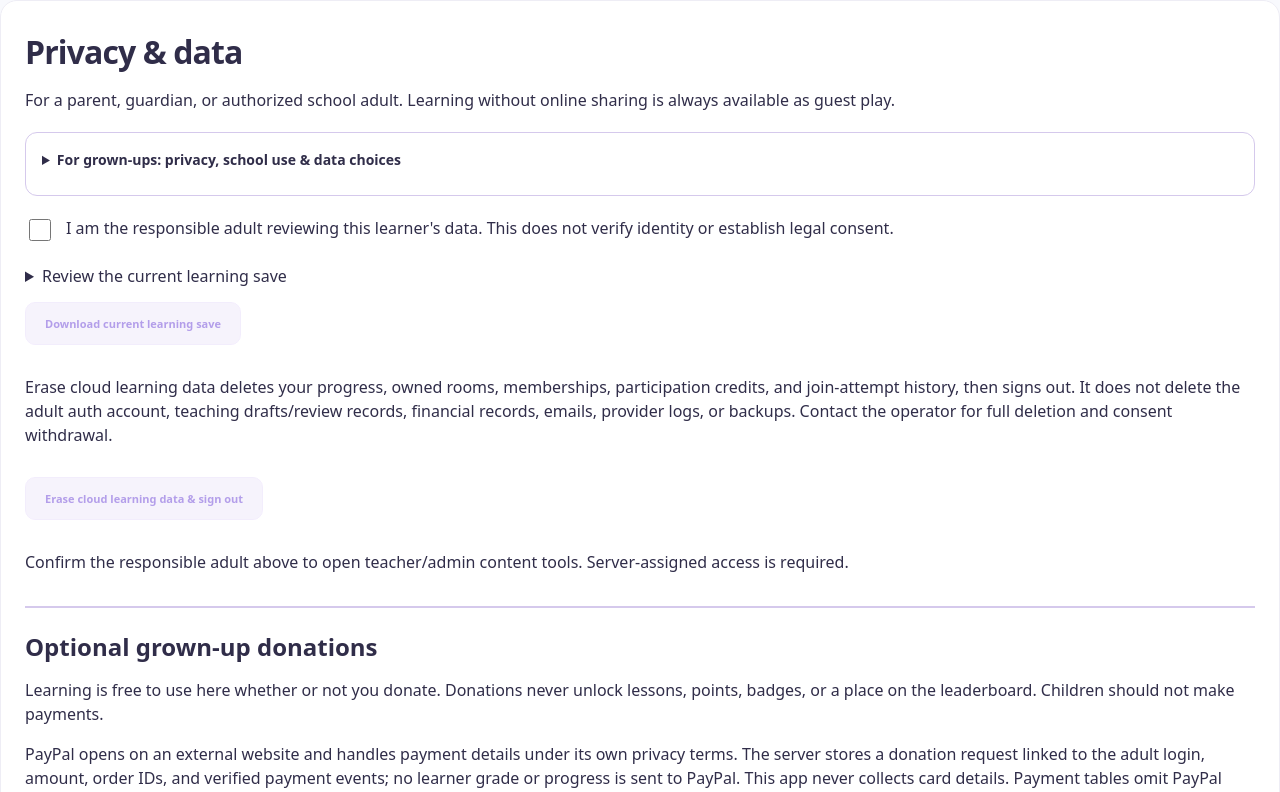
Test: adult privacy choices › surfaces erasure failures and explains cloud identity/backups are separate
Click the checkbox at (40, 230), box left=29, top=219, right=51, bottom=241
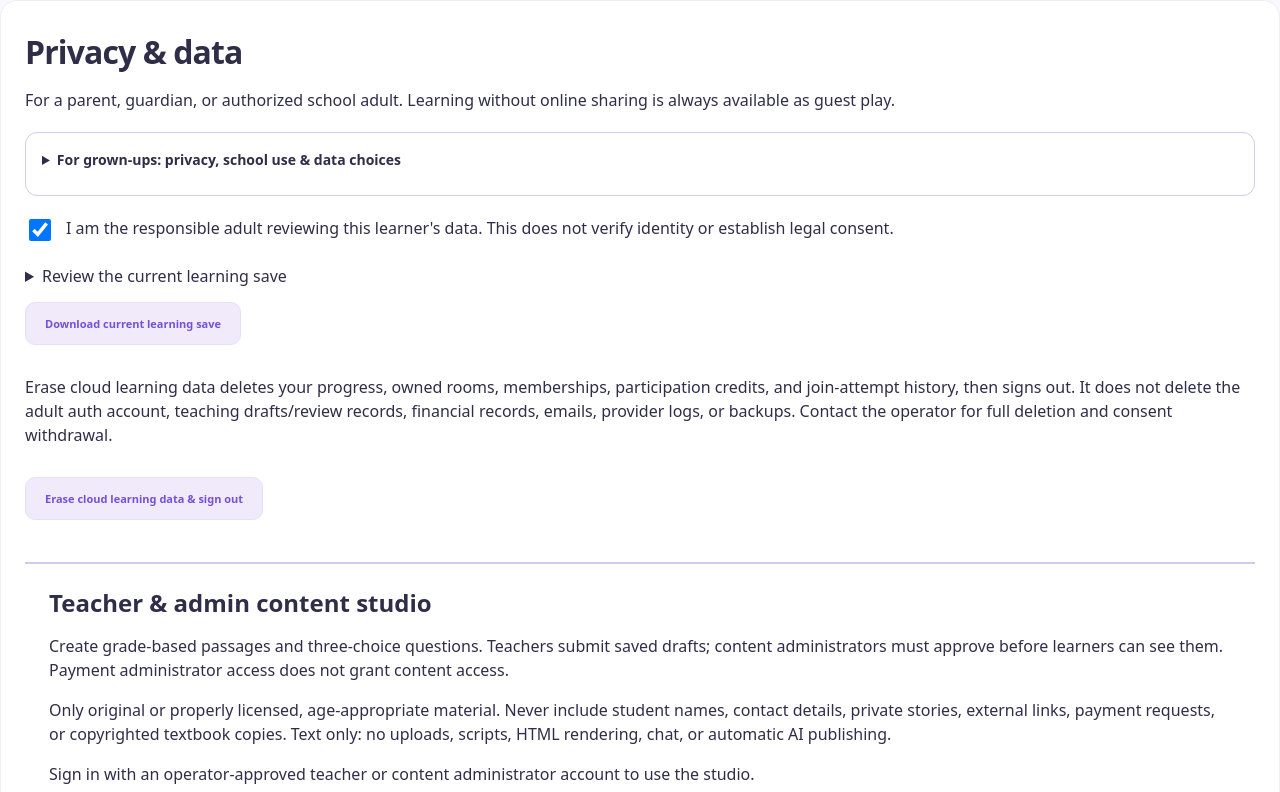
Click the button "Erase cloud learning data & sign out" at (144, 498), box left=25, top=477, right=263, bottom=520
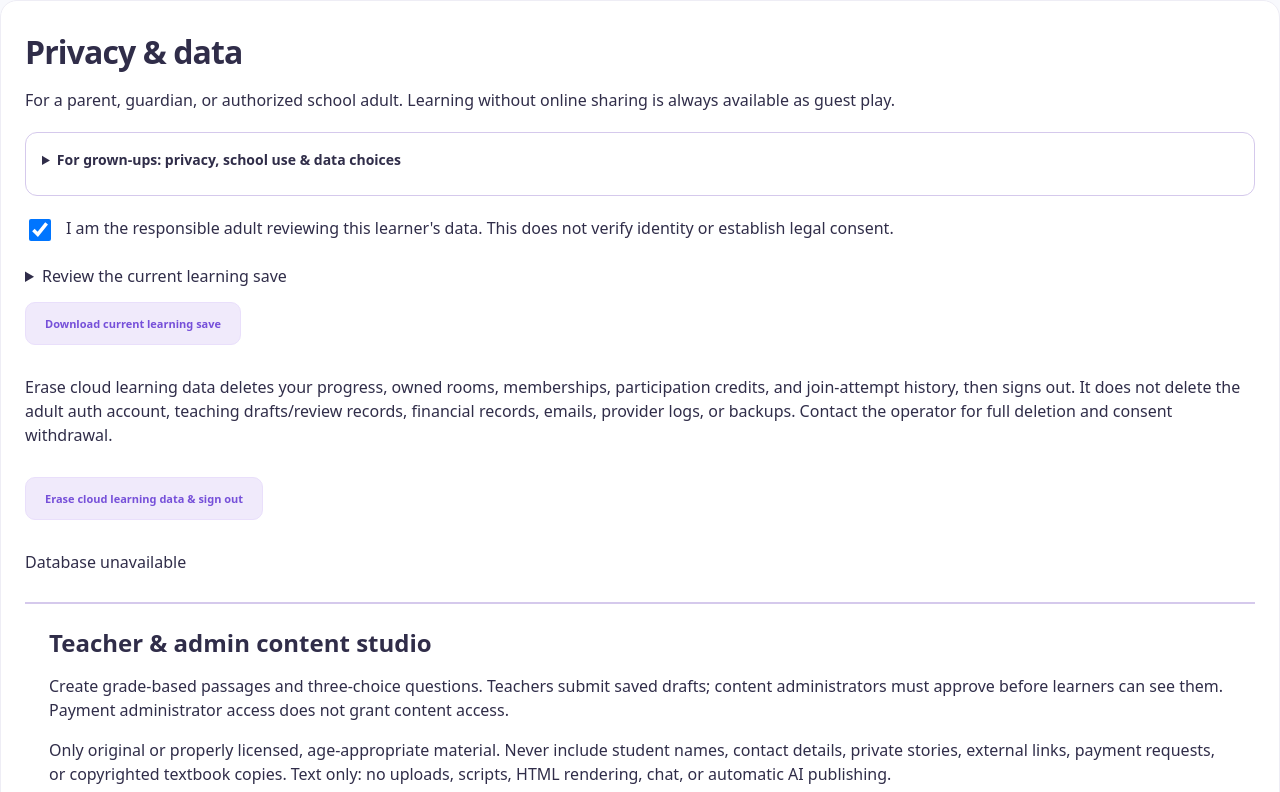
Expected: the text "does not delete the adult auth account" is shown, left=25, top=376, right=1240, bottom=446
Result: the message "Database unavailable" is shown at left=25, top=551, right=186, bottom=573
